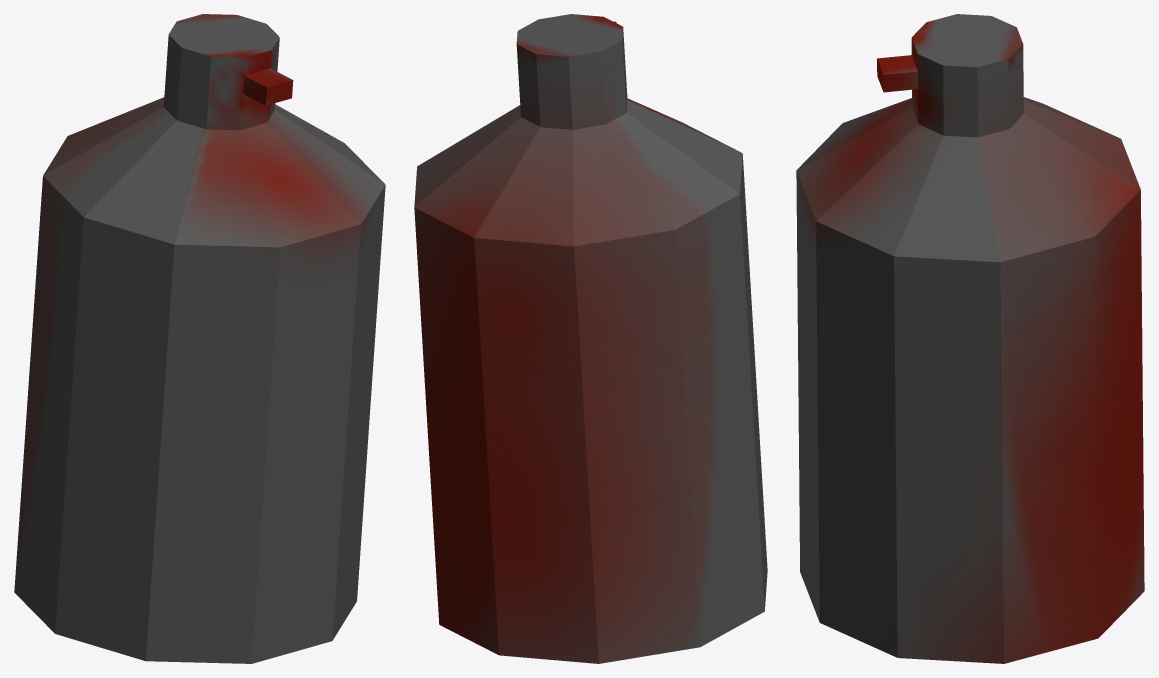
The model's file is lata(1).fbx.
3 renders of one model, left to right at view 1: azimuth 30°, elevation 25°; view 2: azimuth 150°, elevation 25°; view 3: azimuth 270°, elevation 25°, orthographic.
Parts seen in each view (by area): view 1: lata; view 2: lata; view 3: lata.
Part boxes in pixels (box(x1,y1,x2,y2)): lata: box(14, 14, 385, 663); lata: box(414, 14, 767, 663); lata: box(796, 14, 1144, 663).
Size of the model in its own units: 38.23 by 64.91 by 35.78.
1 material, 1 textured.
